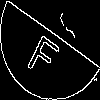F: (25, 25, 65, 81)
